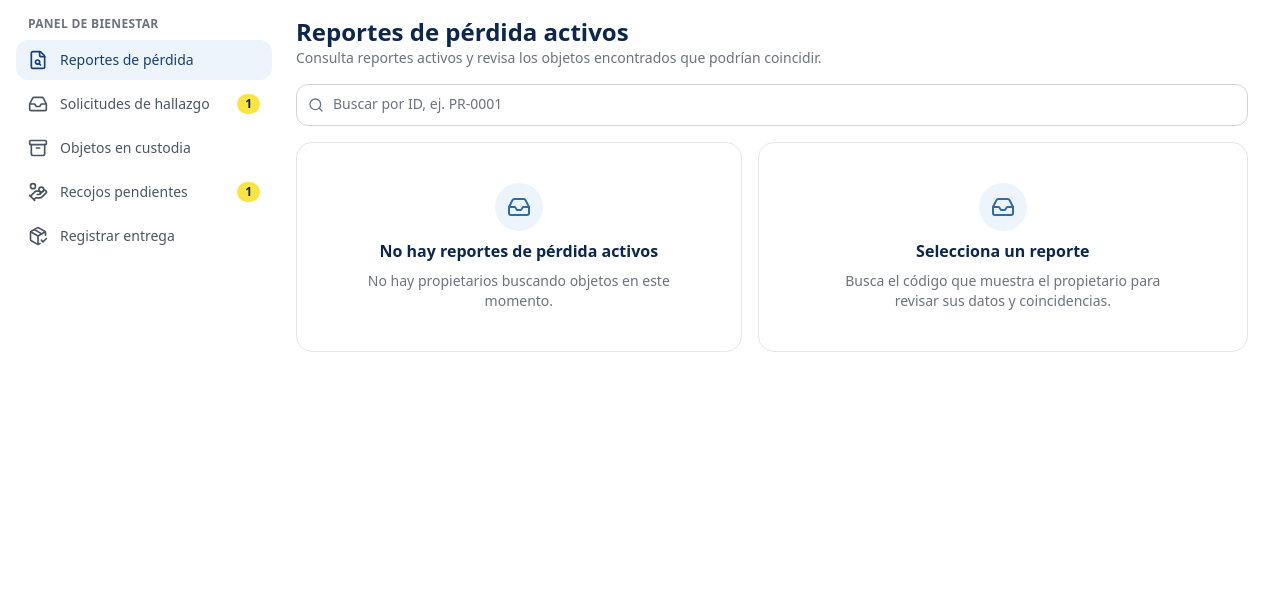
Test: Panel de Bienestar › confirma la entrega y retira el recojo y el objeto de la oficina
Click the button "Recojos pendientes 1".
click(144, 192)  # box [16,172,272,212]
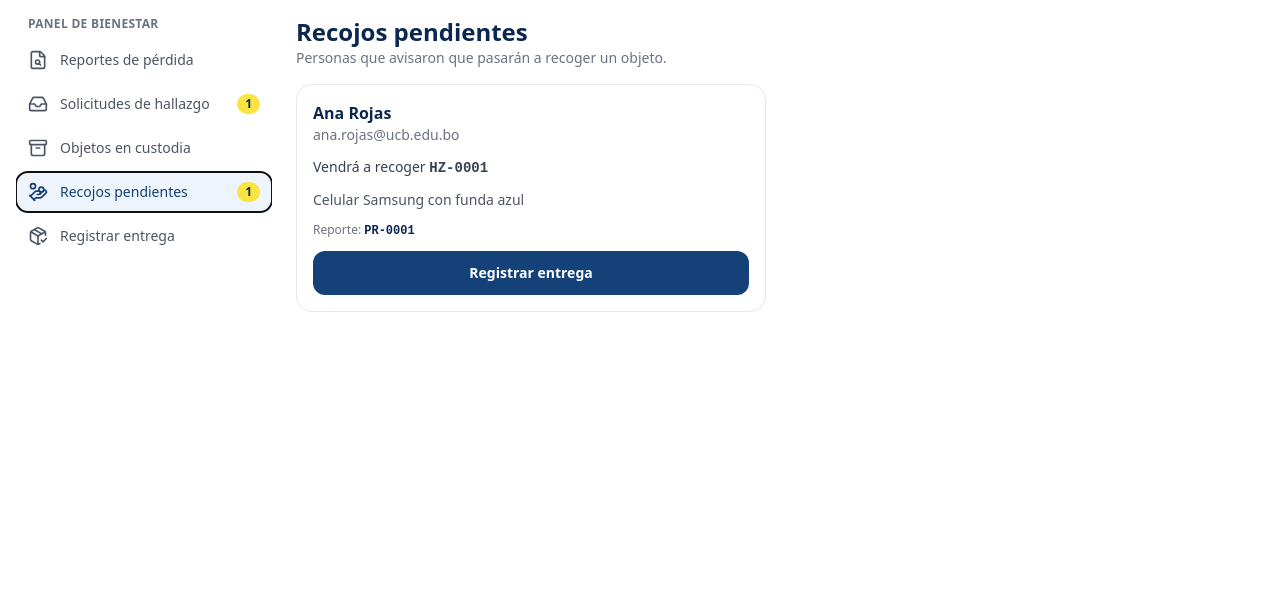
Click the button "Registrar entrega" below "Reporte:".
click(531, 273)  # box [313,251,749,295]
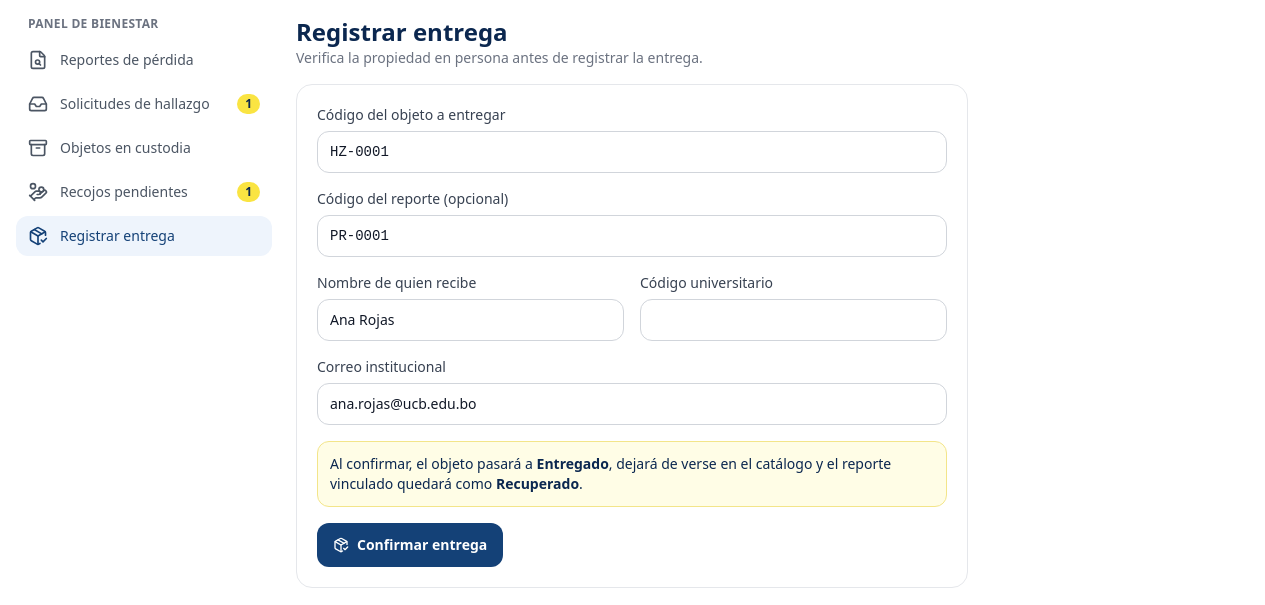
Type "20205678" into the field labelled "Código universitario".
click(794, 320); type("20205678")  # box [640,299,947,341]
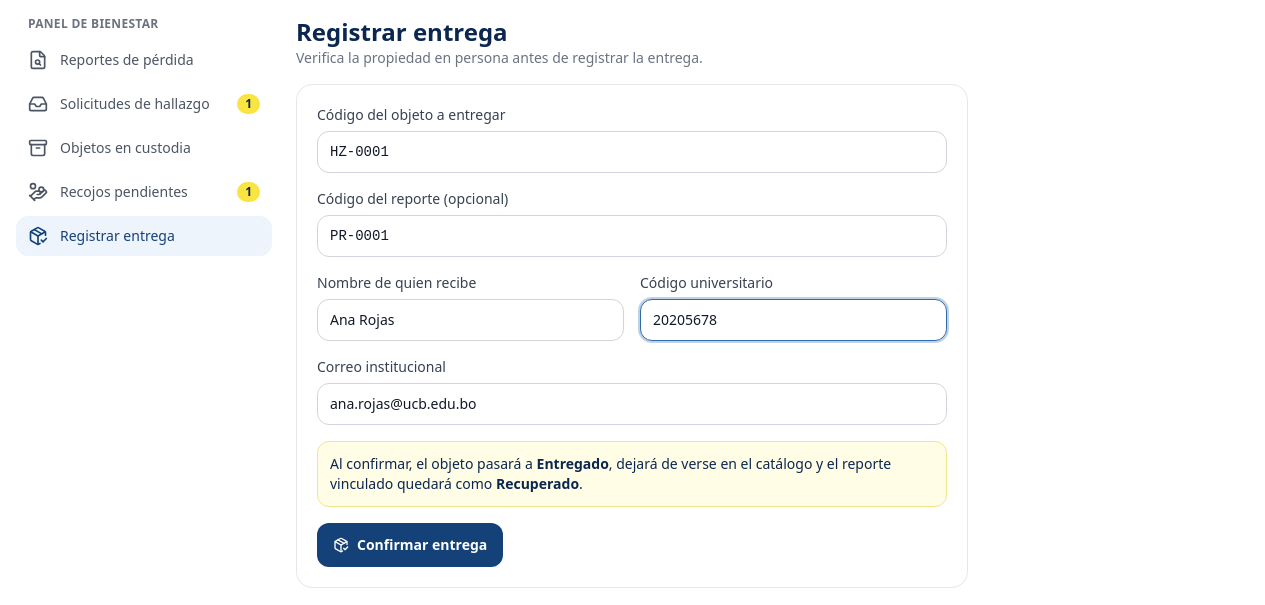
Click the button "Confirmar entrega".
click(410, 545)  # box [317,523,503,567]
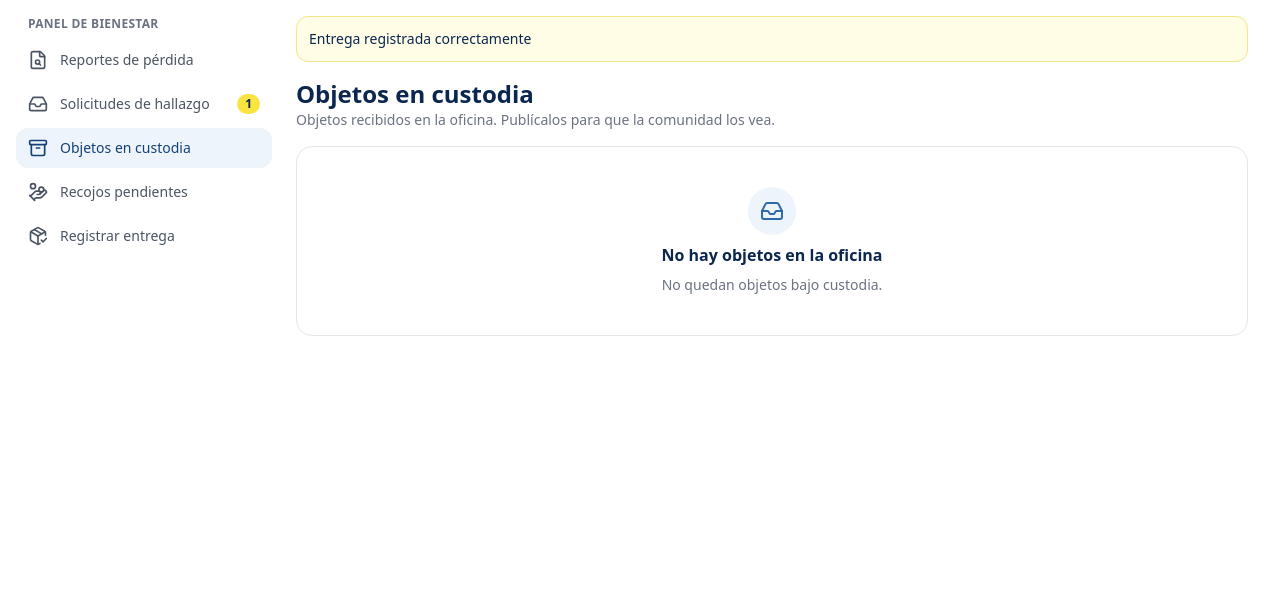
Expected: the text "HZ-0001" is not shown
Expected: the text "Entrega registrada correctamente" is shown, [296,16,1248,62]
Expected: the label labelled "Código universitario" is gone
